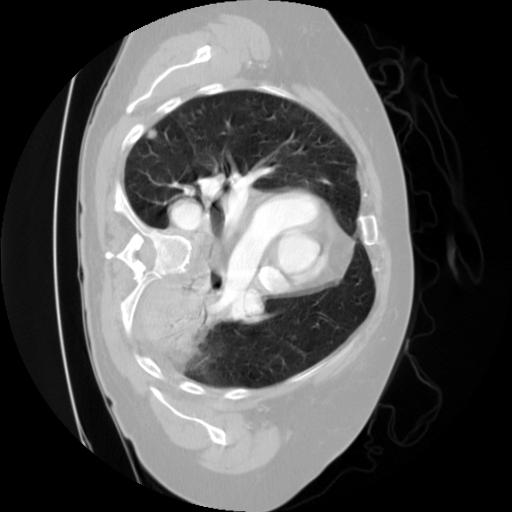nodule: (146, 129, 161, 144)
